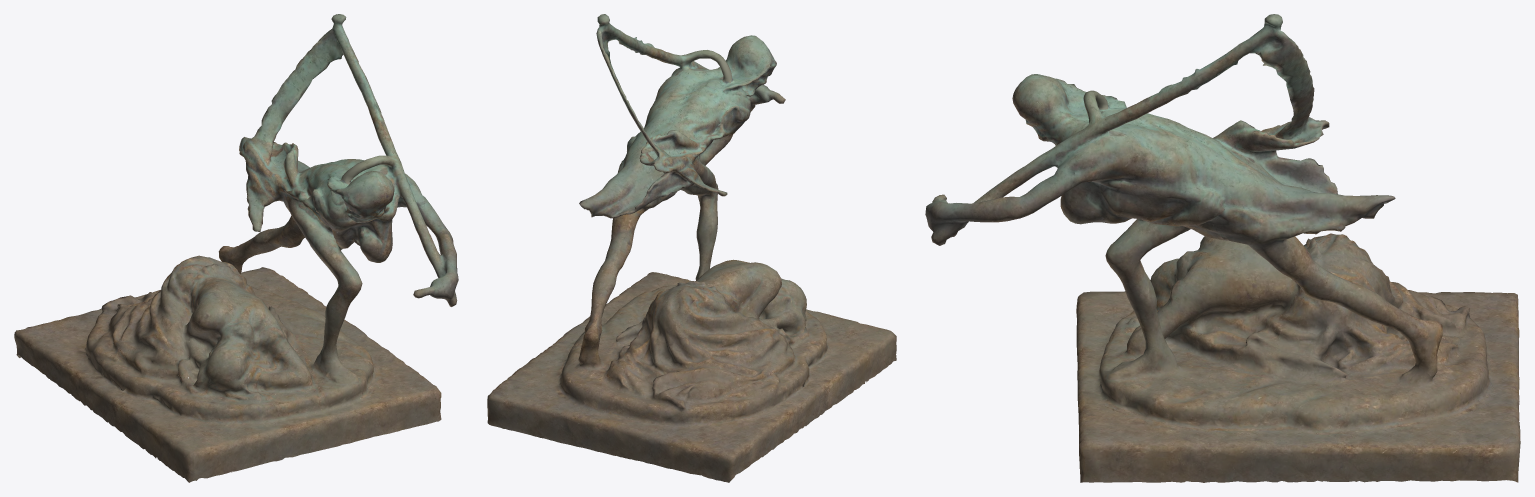
Rendered from sf-the-death-and-the-mother-fa844d.glb.
The picture shows the model from 3 angles, left to right: view 1: azimuth 30°, elevation 25°; view 2: azimuth 150°, elevation 25°; view 3: azimuth 270°, elevation 25°; orthographic projection. The views are drawn at different scales.
Parts seen in each view (by area): view 1: remeshed.o_remeshed.o_material_0_0; view 2: remeshed.o_remeshed.o_material_0_0; view 3: remeshed.o_remeshed.o_material_0_0.
Boxes of the visible parts, x1,y1,x2,y2 form: remeshed.o_remeshed.o_material_0_0: (14,14,458,482); remeshed.o_remeshed.o_material_0_0: (487,14,896,482); remeshed.o_remeshed.o_material_0_0: (925,14,1520,482).
Bounding box in the file's own units: 106 × 140 × 166.
1 material, 1 textured.
